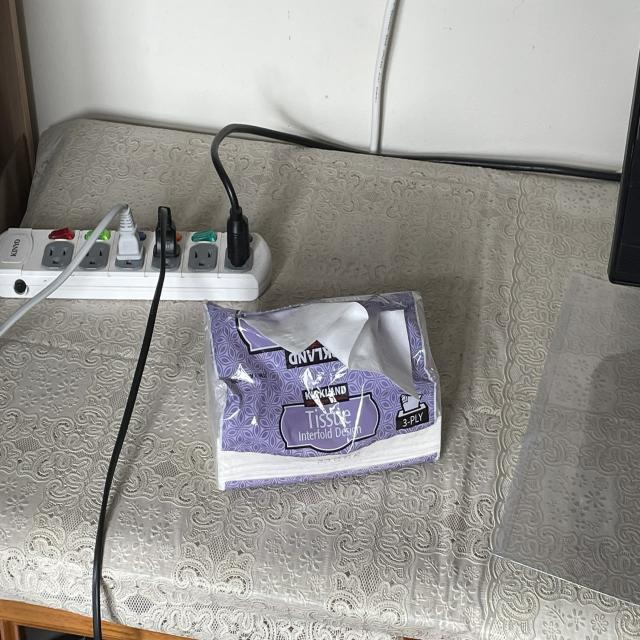tissue: (192, 288, 458, 495)
